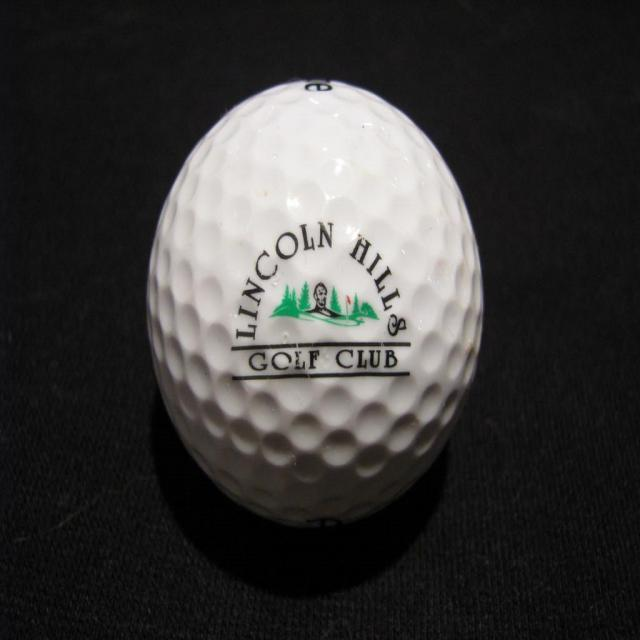GolfBall: (124, 67, 496, 534)
